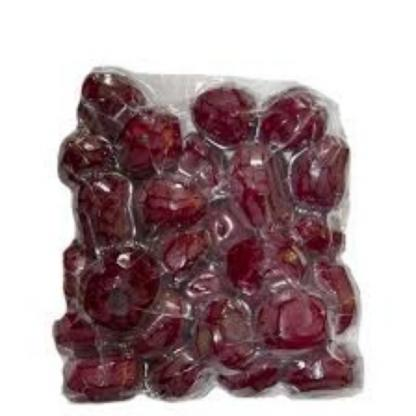beet: (56, 61, 368, 399)
